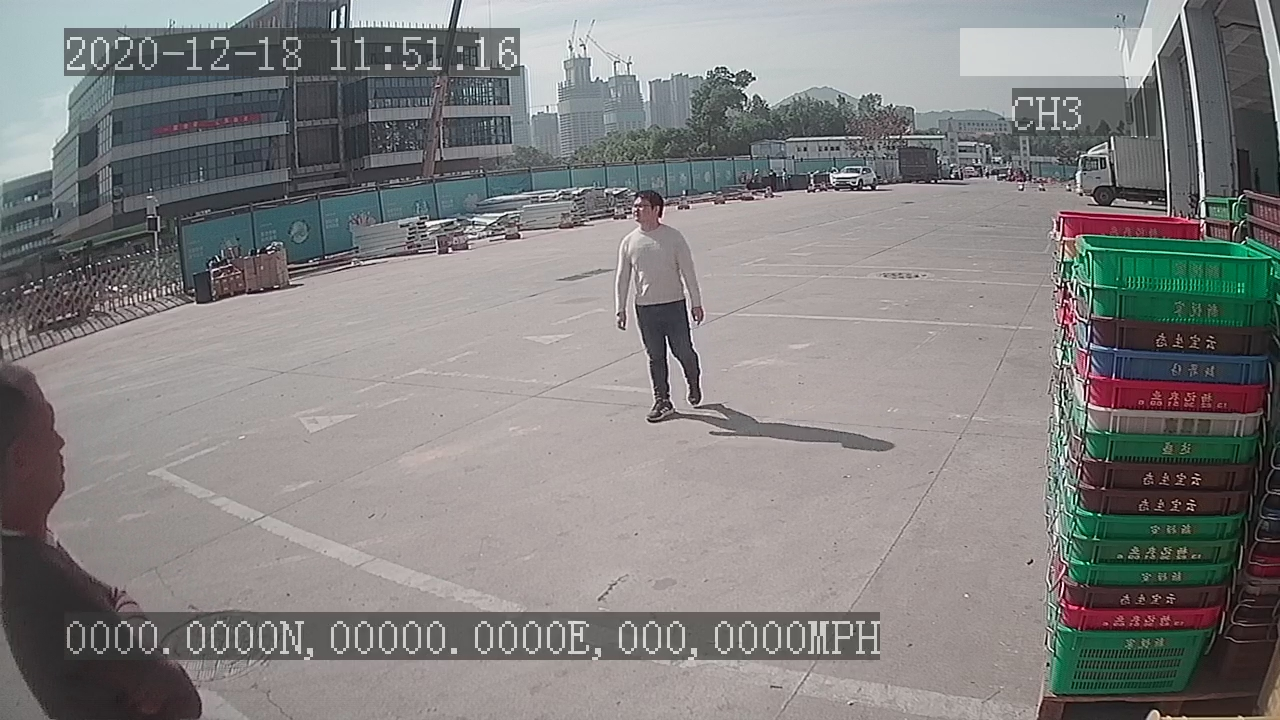person: (609, 186, 709, 427)
